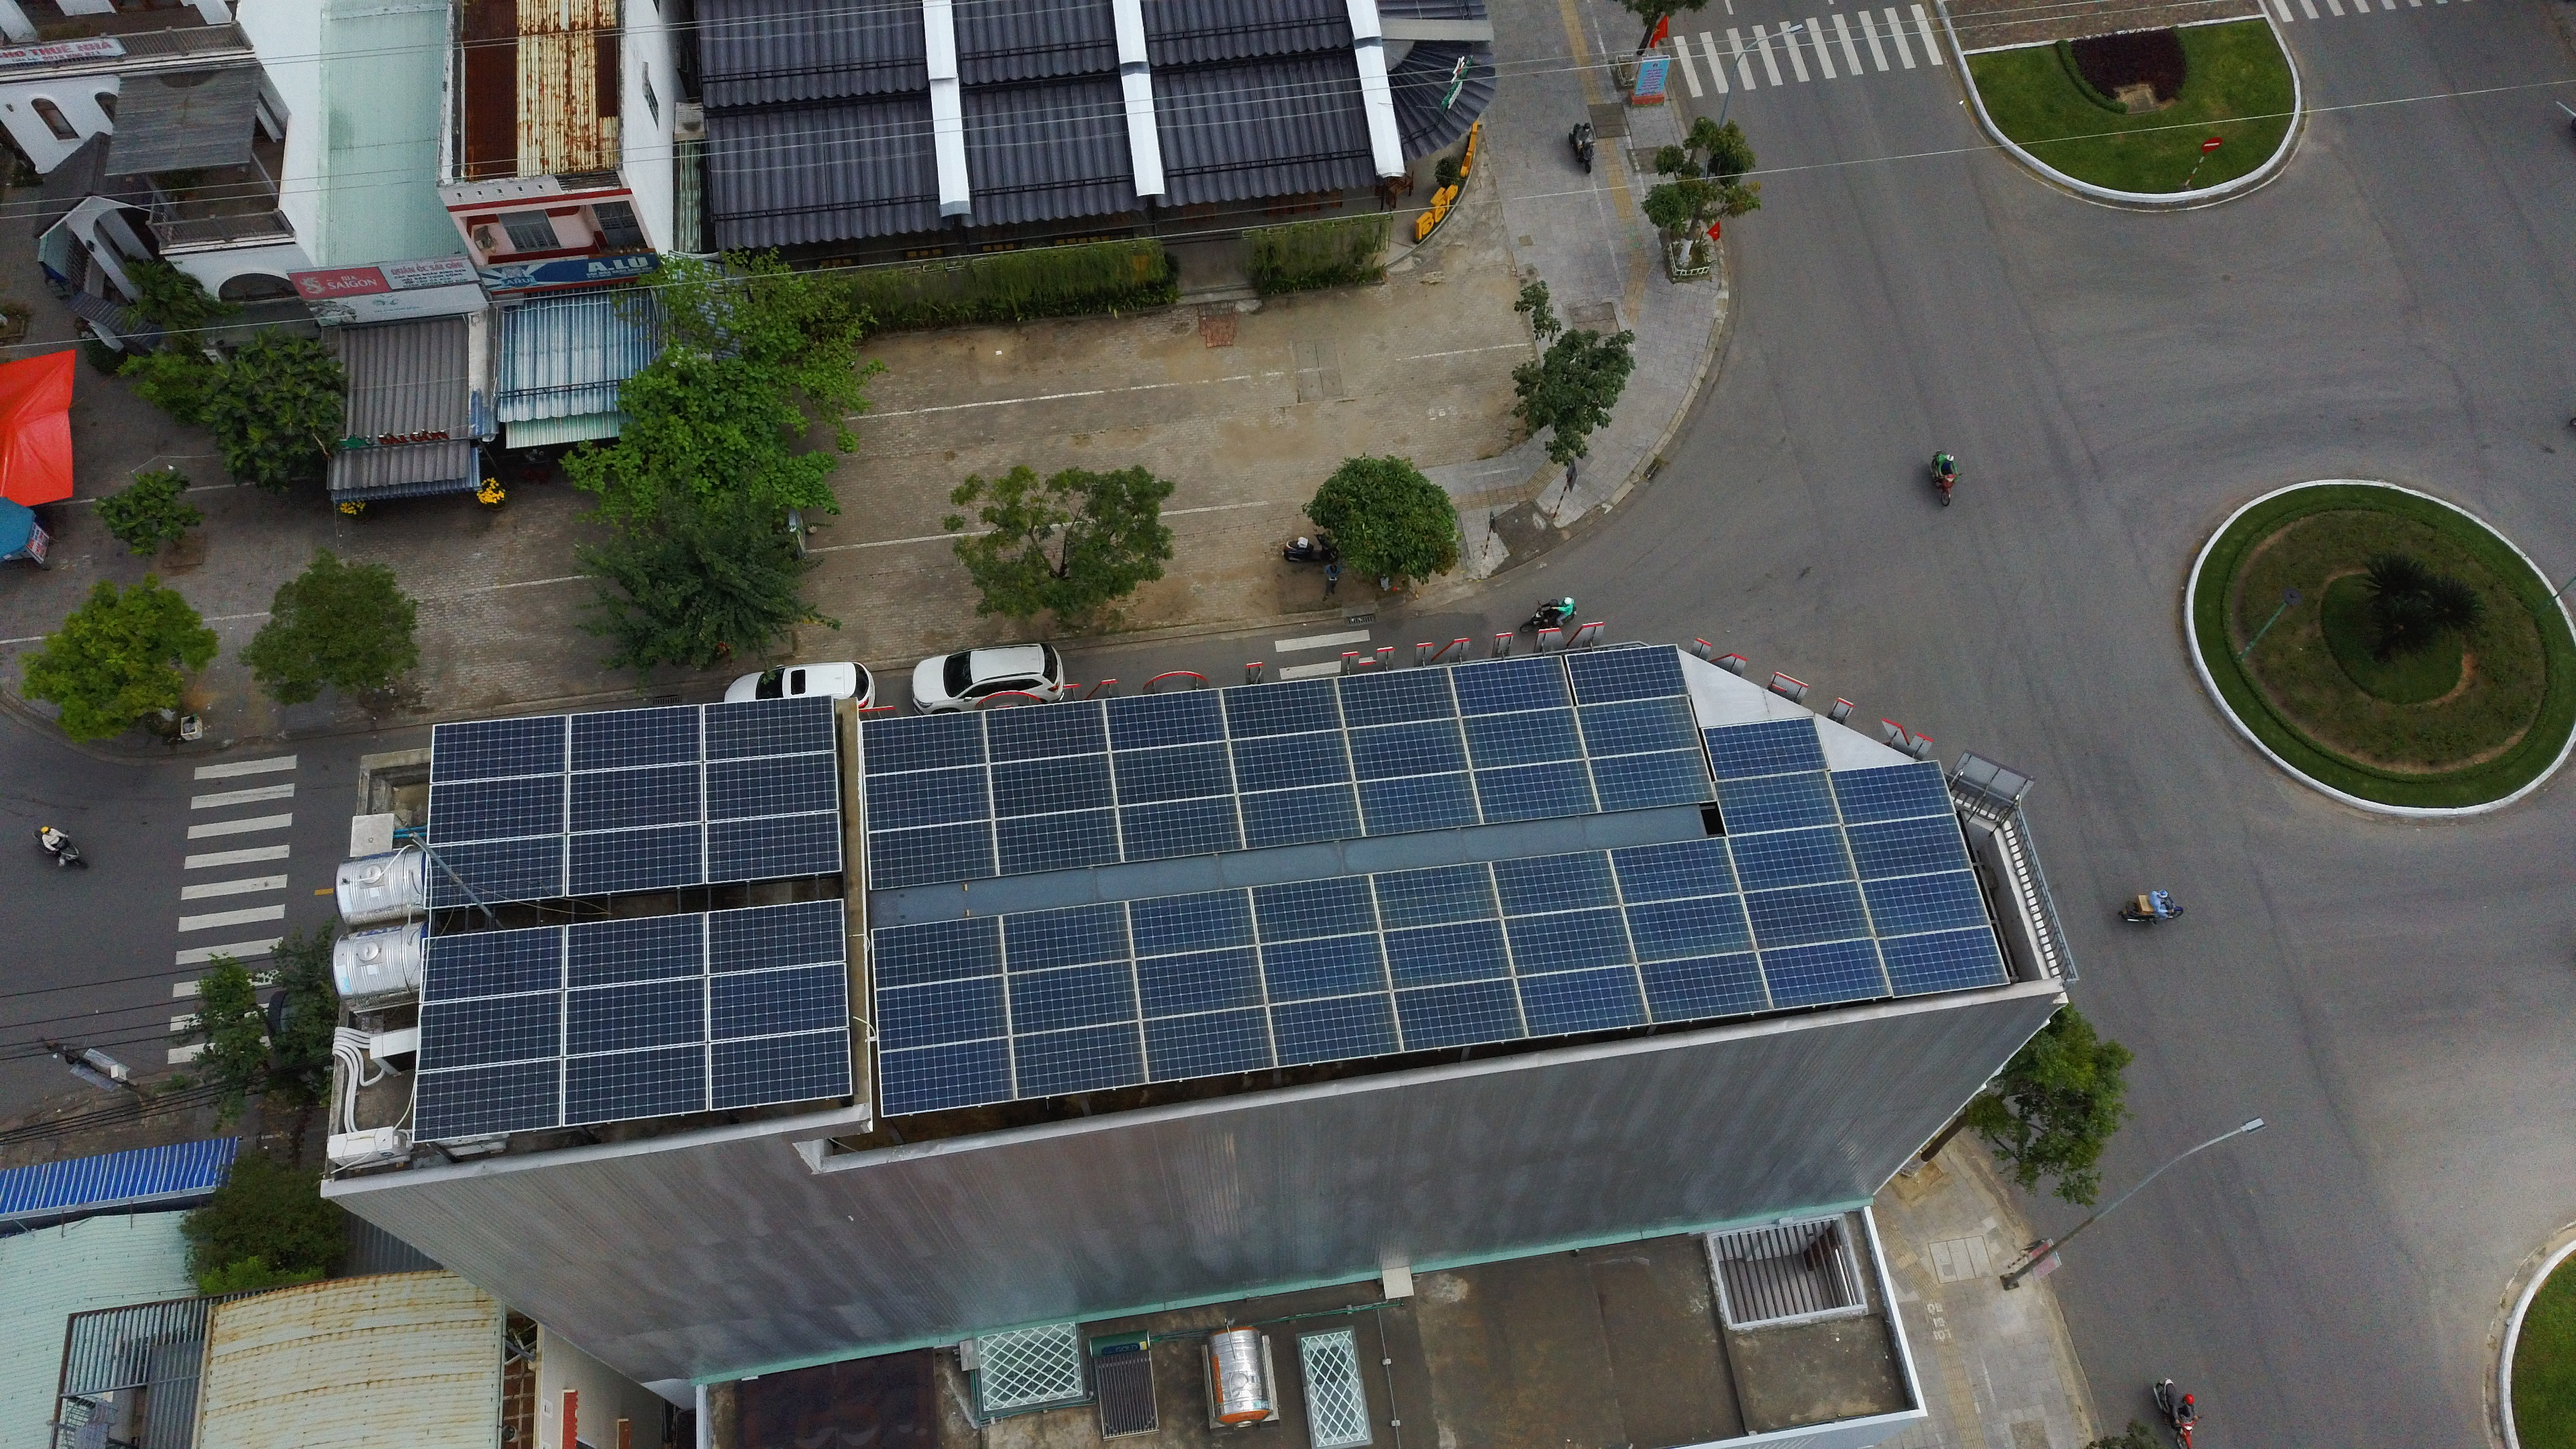solar: (412, 1058, 563, 1143), (563, 1042, 709, 1127), (563, 973, 708, 1058), (414, 991, 563, 1072), (708, 1028, 849, 1111), (1138, 1001, 1279, 1085), (419, 924, 564, 1003), (704, 961, 847, 1040), (876, 1035, 1016, 1116), (1010, 1019, 1150, 1100), (564, 821, 708, 899), (564, 913, 708, 991), (704, 899, 844, 978), (423, 833, 568, 909), (1497, 904, 1640, 980), (566, 759, 706, 837), (874, 973, 1010, 1053), (1003, 957, 1139, 1037), (1131, 941, 1267, 1021), (426, 771, 568, 847), (1389, 977, 1527, 1054), (870, 913, 1007, 991), (1513, 964, 1652, 1039), (1635, 950, 1775, 1024), (1000, 899, 1136, 975), (1258, 929, 1394, 1005), (1755, 936, 1893, 1010), (1269, 991, 1403, 1067), (563, 702, 706, 773), (704, 809, 840, 883), (867, 817, 1000, 893), (428, 713, 570, 784), (701, 750, 839, 823), (1123, 885, 1258, 959), (1380, 918, 1514, 993), (1622, 892, 1757, 966), (1741, 879, 1879, 950), (1235, 777, 1366, 851), (1247, 872, 1378, 947), (1115, 793, 1247, 865), (1369, 860, 1502, 932), (1877, 924, 2010, 996), (862, 763, 996, 833), (1488, 847, 1622, 918), (1859, 867, 1994, 938), (991, 805, 1123, 876), (1608, 835, 1741, 906), (699, 694, 837, 761), (1725, 824, 1859, 893), (985, 750, 1116, 819), (1345, 717, 1476, 786), (1353, 770, 1484, 839), (1470, 757, 1601, 826), (1713, 770, 1844, 839), (1842, 814, 1973, 883), (1219, 672, 1346, 743), (858, 709, 991, 777), (984, 699, 1116, 766), (1102, 686, 1235, 754), (1108, 740, 1240, 807), (1224, 731, 1357, 798), (1334, 663, 1465, 731), (1585, 747, 1716, 814), (1829, 759, 1957, 828), (1566, 642, 1695, 708), (1458, 706, 1585, 771), (1575, 694, 1702, 759), (1702, 717, 1829, 782), (1445, 655, 1575, 718)
